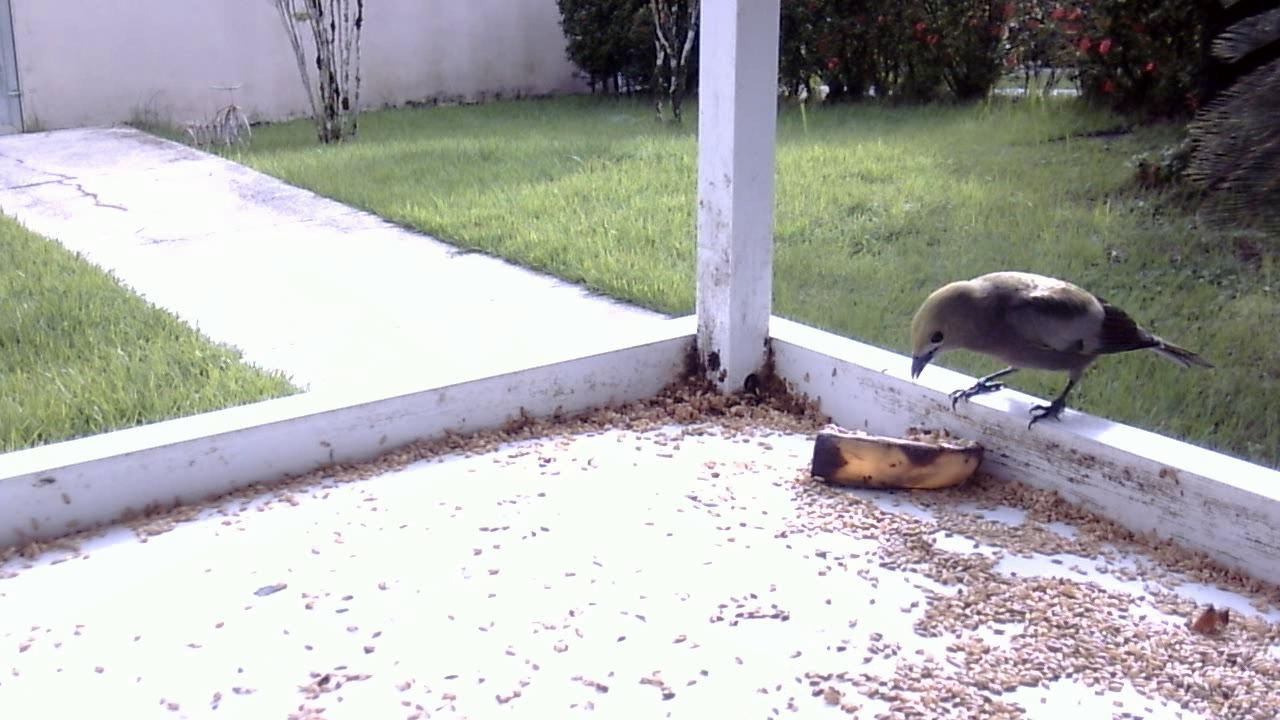sanhaco_do_coqueiro: (904, 261, 1216, 442)
